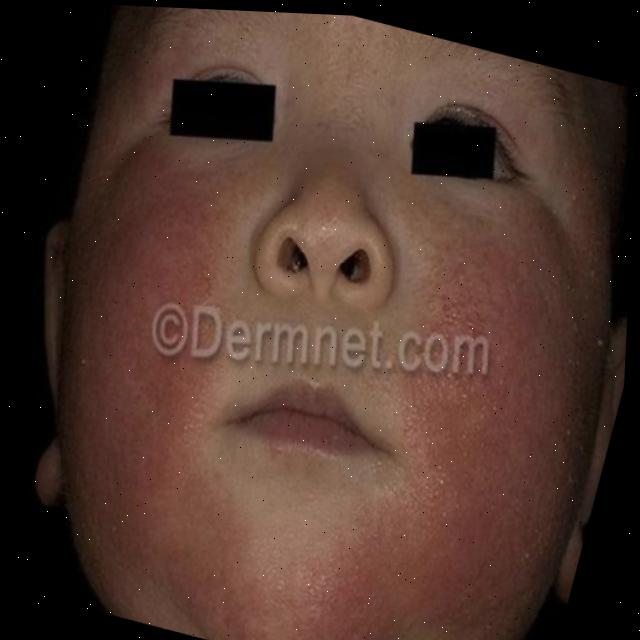Eczema: (376, 239, 611, 576), (52, 140, 290, 455), (178, 529, 403, 640)
